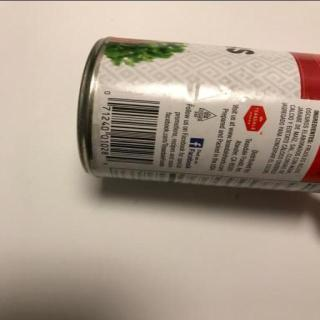Anorganik: (75, 34, 320, 195)
